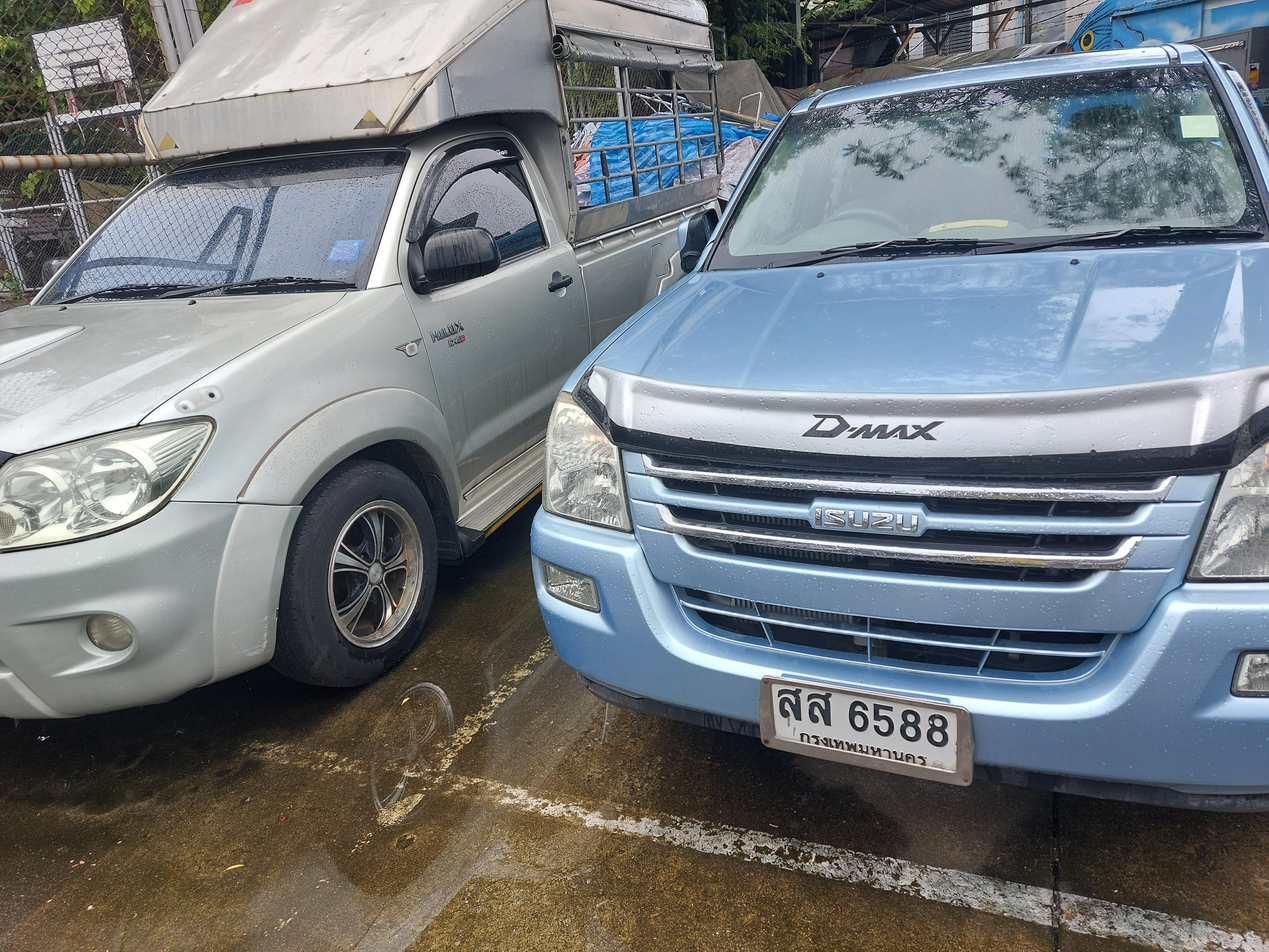license-plate: (757, 671, 977, 788)
